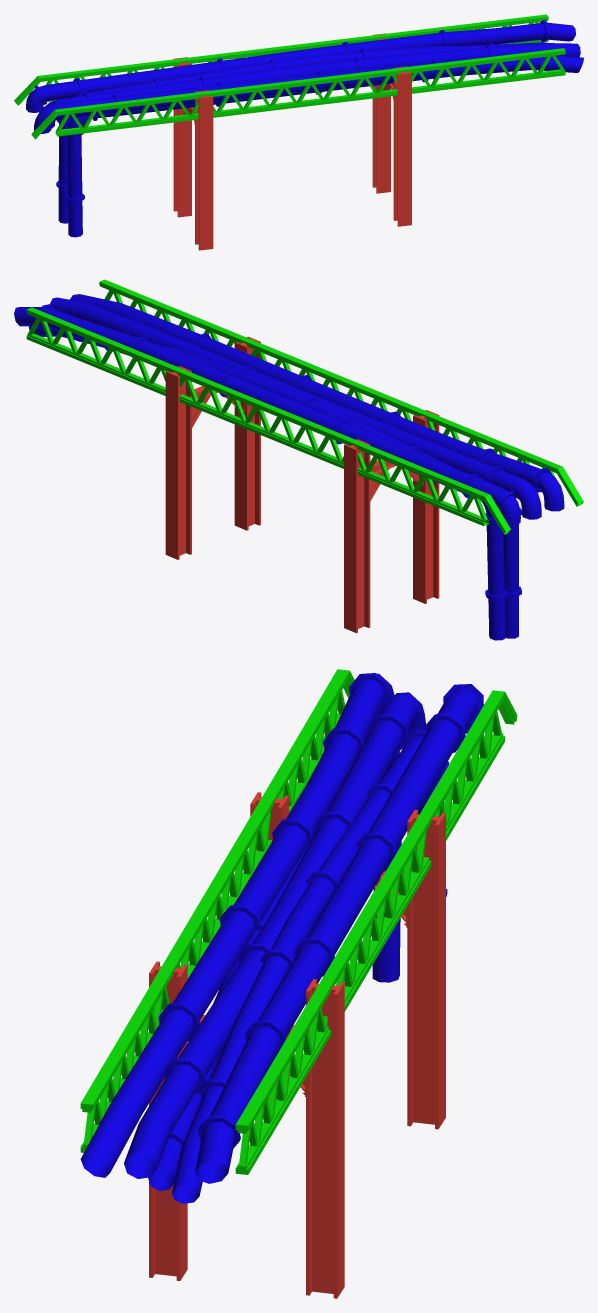
File: Bridge.fbx
3 views of the same model, one above another, from view 1: azimuth 30°, elevation 25°; view 2: azimuth 150°, elevation 25°; view 3: azimuth 270°, elevation 25° (orthographic). The views are drawn at different scales.
Parts seen in each view (by area): view 1: Bridge; view 2: Bridge; view 3: Bridge.
Boxes of the visible parts, x1,y1,x2,y2 form: Bridge: [14, 14, 583, 250]; Bridge: [14, 279, 583, 640]; Bridge: [80, 669, 517, 1298].
Size of what is drawn, in the model's own units: 701 by 1874 by 559.
